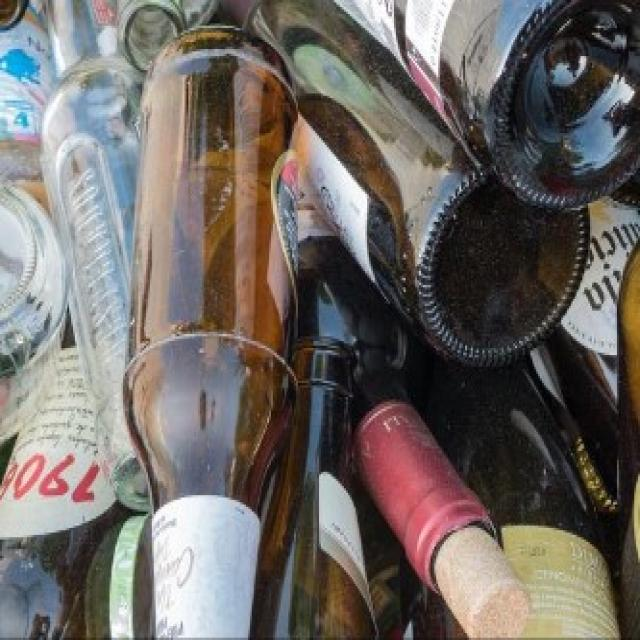electronic: (202, 0, 590, 362), (117, 18, 301, 640)
